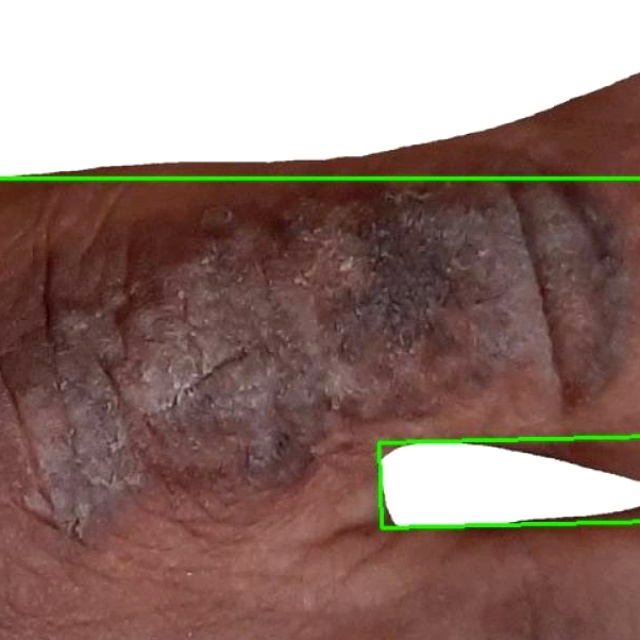Contact Dermatitis: (0, 0, 639, 178), (378, 436, 639, 529)
